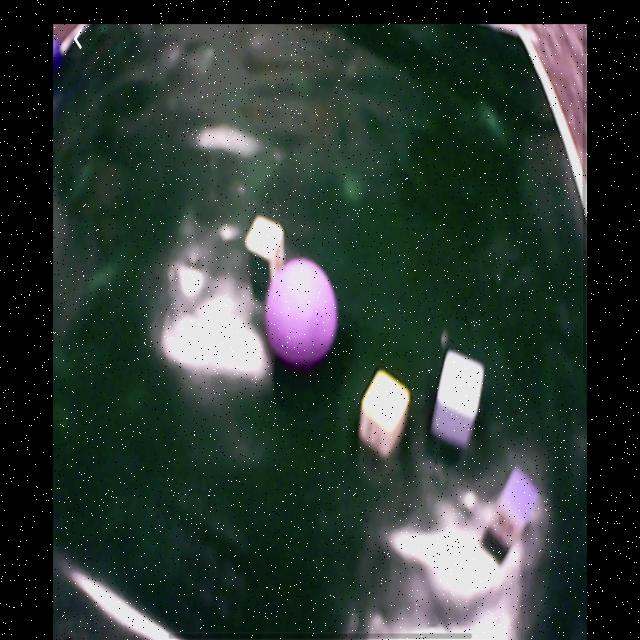ball: (266, 258, 338, 366), (54, 38, 60, 66)
